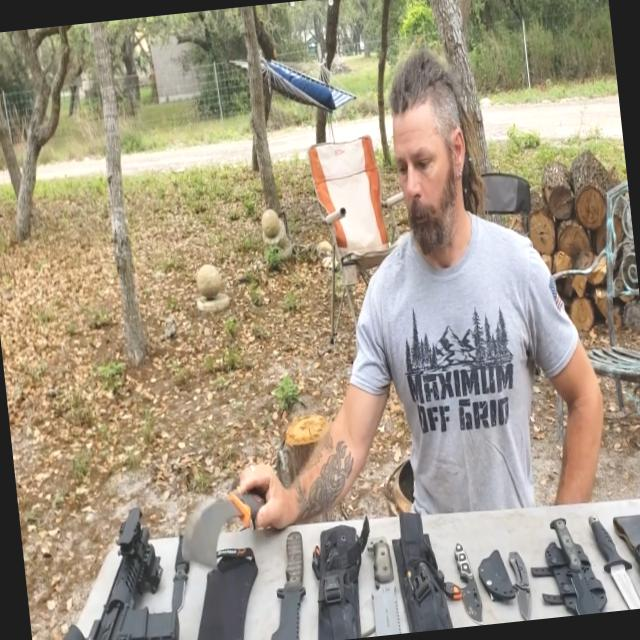knife: (166, 461, 277, 581), (243, 507, 320, 639), (583, 494, 639, 608), (156, 498, 208, 618), (356, 516, 408, 636), (553, 516, 603, 616), (446, 532, 492, 626), (496, 532, 540, 621)
long weapon: (33, 502, 191, 639)
